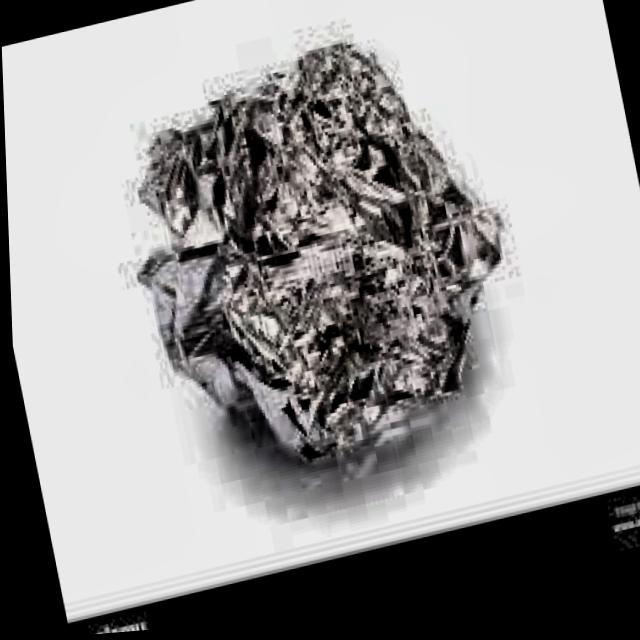Foil: (88, 2, 555, 522)
